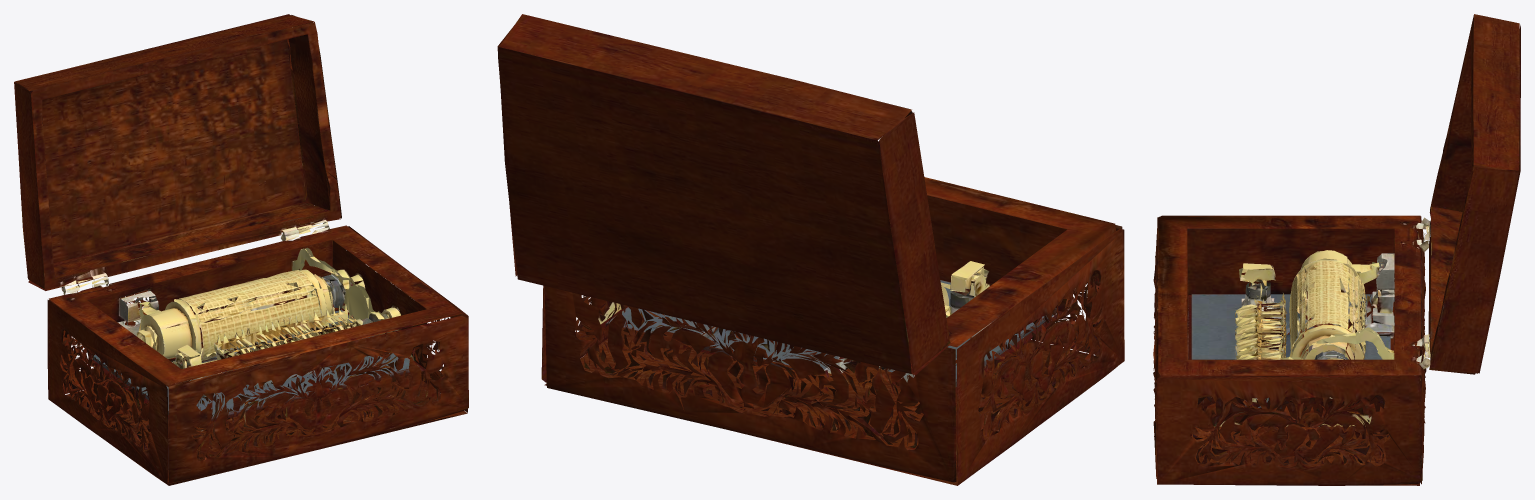
Rendered from musicbox.glb.
3 views of the same model, side by side, from view 1: azimuth 30°, elevation 25°; view 2: azimuth 150°, elevation 25°; view 3: azimuth 270°, elevation 25° (orthographic). The views are drawn at different scales.
Visible parts, largest first — view 1: musicbox; view 2: musicbox; view 3: musicbox.
Boxes of the visible parts, bbox=[...] form: musicbox: bbox=[14, 14, 468, 485]; musicbox: bbox=[497, 14, 1124, 485]; musicbox: bbox=[1153, 14, 1520, 485].
Bounding box in the file's own units: 1.11 × 1 × 1.05.
Materials: 1 (1 with a texture image).
